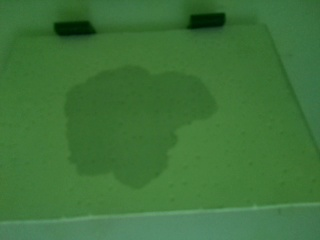Water_detected: (85, 81, 201, 172)
